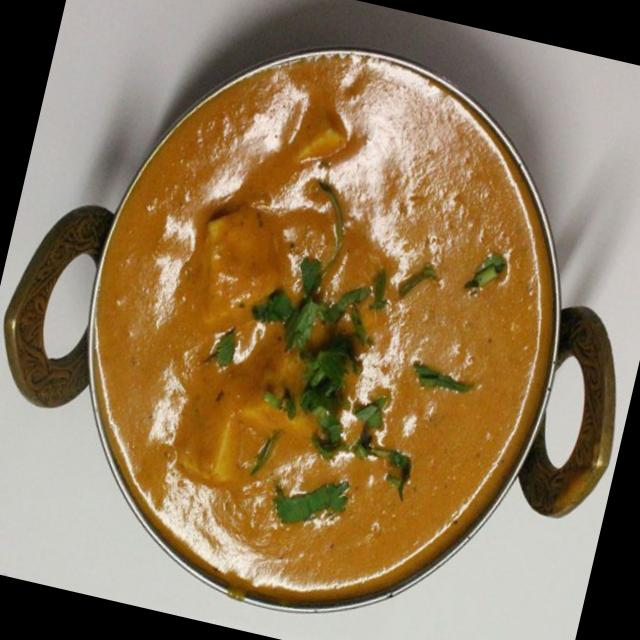ShahiPaneer: (41, 12, 600, 640)
